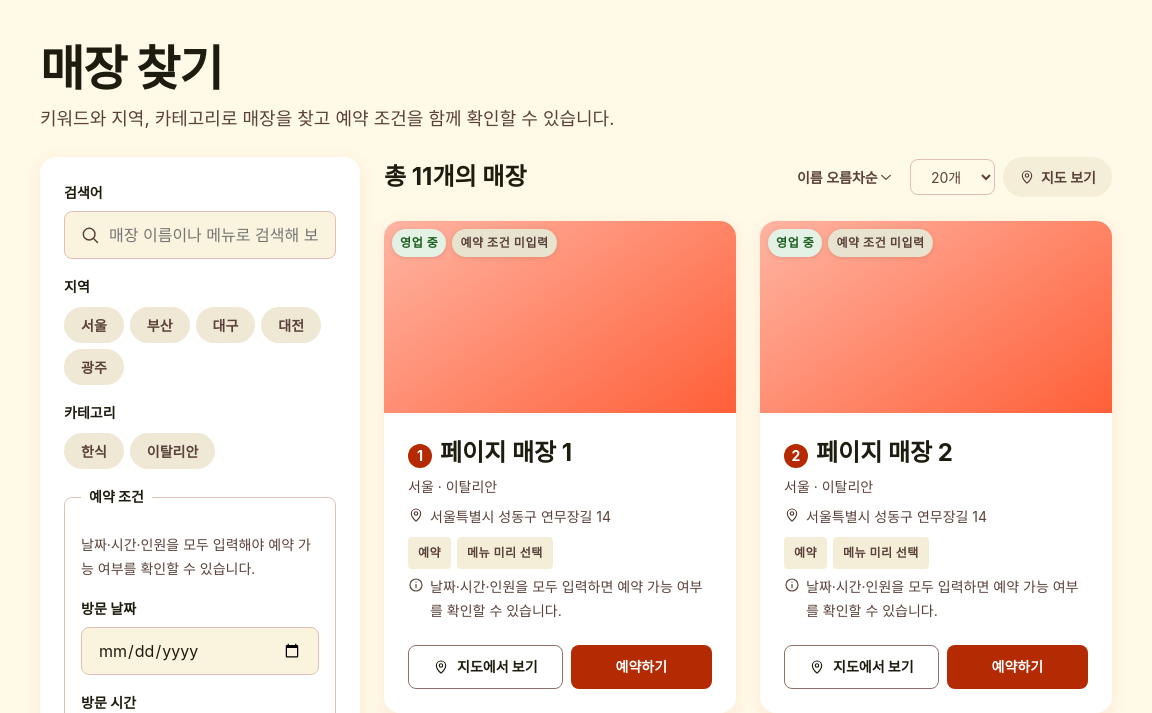
Scenario: 매장 찾기 결과 화면 › 선택한 개수만 표시하고 나머지는 다음 서버 페이지에서 이어 본다
Select "10개" in the 2nd dropdown named "한 페이지 표시 개수": (952, 177) [910,159,995,195]
(page scrolled)
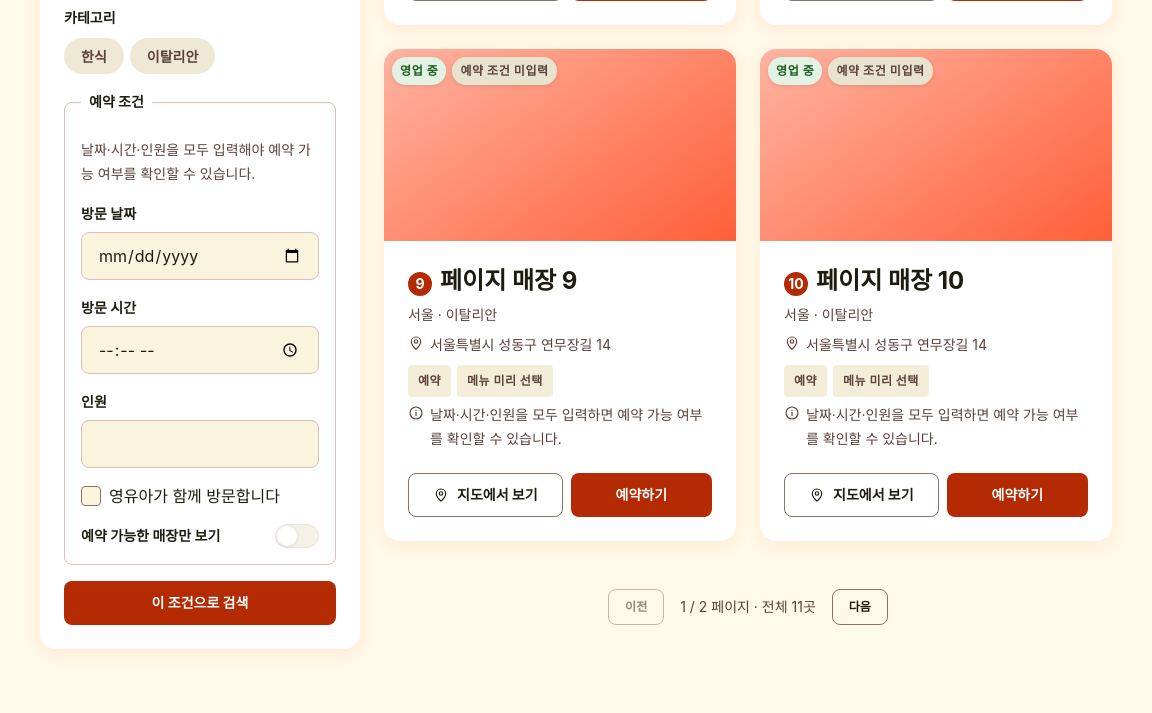
Expected: the link "페이지 매장 11" is not shown
Click the button "다음": (860, 607) [832,589,888,625]
(page scrolled)
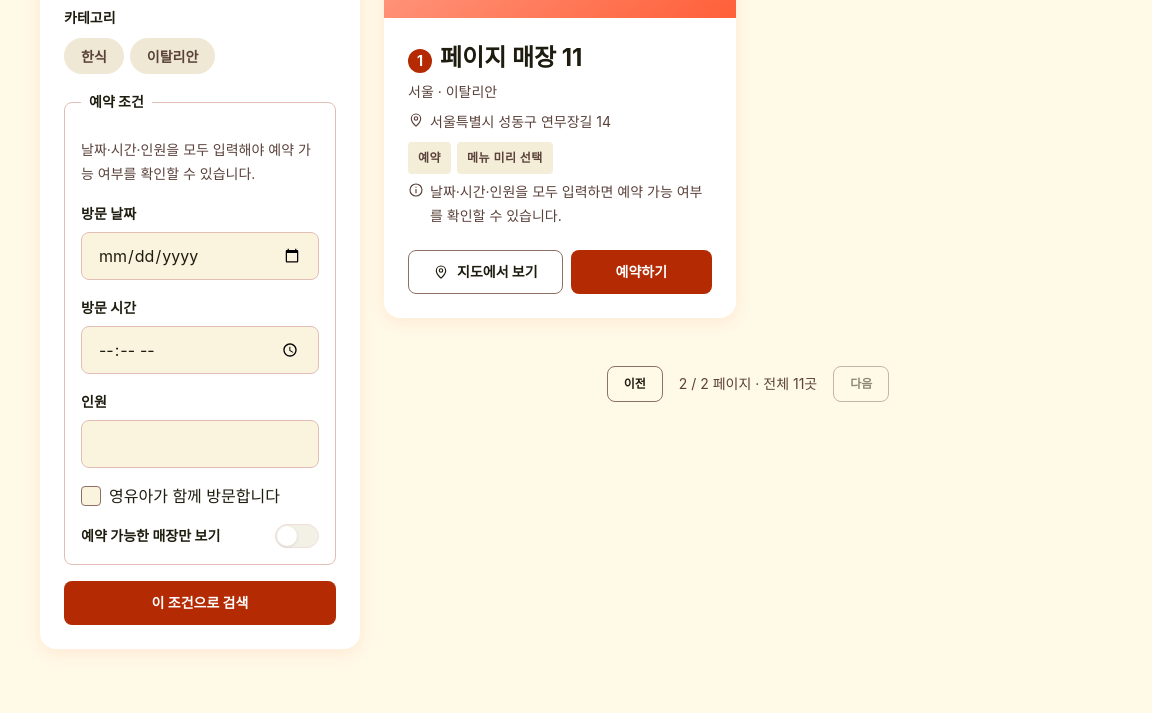
Result: the link "페이지 매장 11" is shown at [440,42,582,74]
